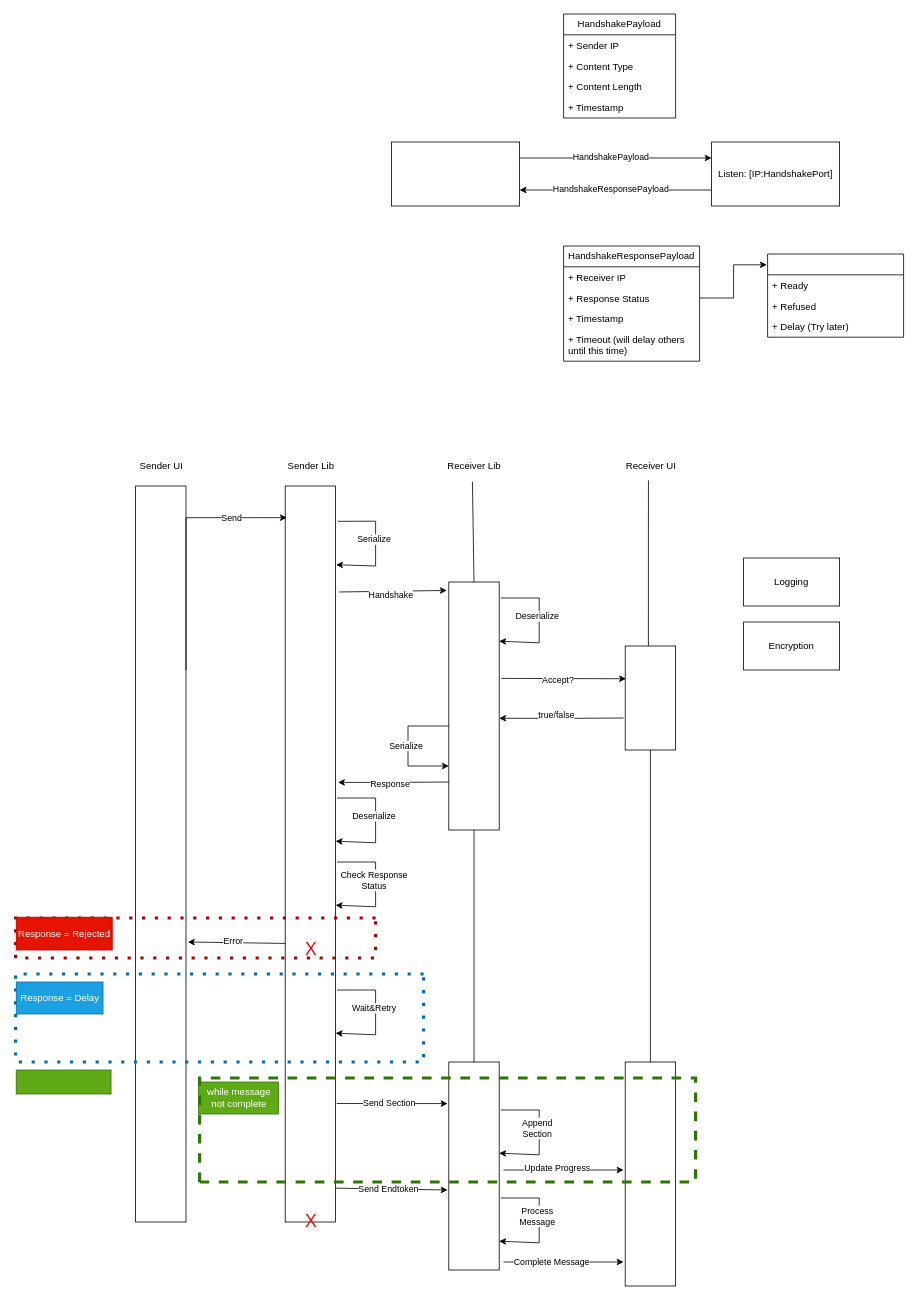
Some shapes in this 918 by 1300 pixel diagram are drawn without their labels. Each missing label, with the box of its shape:
Response = Ready: (15, 1069, 111, 1094)
Response Status: (767, 253, 904, 337)
Send: [TargetIP:HandshakePort]: (391, 141, 520, 206)
